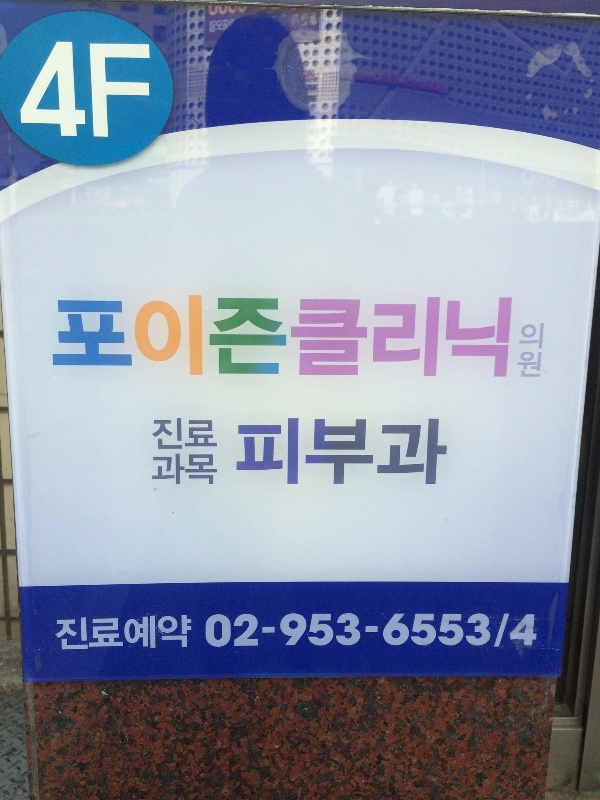text: (65, 32, 80, 147), (81, 32, 96, 147), (97, 32, 112, 147), (113, 32, 128, 147), (129, 32, 144, 147), (289, 294, 304, 389), (305, 294, 320, 389), (321, 294, 336, 389), (337, 294, 352, 389), (353, 294, 368, 389), (369, 294, 384, 389), (385, 294, 400, 389), (401, 294, 416, 389), (417, 294, 432, 389), (433, 294, 448, 389), (449, 294, 464, 389), (465, 294, 480, 389), (481, 294, 496, 389), (497, 294, 512, 389), (52, 32, 64, 147), (65, 294, 80, 383), (81, 294, 96, 383), (97, 294, 112, 383), (113, 294, 128, 383), (129, 294, 144, 383), (145, 294, 160, 383), (161, 294, 176, 383), (177, 294, 192, 383), (193, 294, 208, 383), (209, 294, 224, 383), (225, 294, 240, 383), (241, 294, 256, 383), (257, 294, 272, 383), (273, 294, 288, 383), (241, 413, 256, 493), (257, 413, 272, 493), (273, 413, 288, 493), (289, 413, 304, 493), (305, 413, 320, 493), (321, 413, 336, 493), (337, 413, 352, 493), (353, 413, 368, 493), (369, 413, 384, 493), (385, 413, 400, 493), (401, 413, 416, 493), (417, 413, 432, 493), (433, 413, 448, 493), (145, 32, 154, 147), (53, 294, 64, 383), (529, 322, 544, 378), (209, 609, 224, 659), (225, 609, 240, 659), (241, 609, 256, 659), (257, 609, 272, 659), (273, 609, 288, 659), (289, 609, 304, 659), (305, 609, 320, 659), (321, 609, 336, 659), (337, 609, 352, 659), (353, 609, 368, 659), (369, 609, 384, 659), (385, 609, 400, 659), (401, 609, 416, 659), (417, 609, 432, 659), (433, 609, 448, 659), (449, 609, 464, 659), (465, 609, 480, 659), (481, 609, 496, 659), (497, 609, 512, 659), (513, 609, 528, 659), (529, 609, 542, 659), (177, 613, 193, 653), (65, 613, 80, 653), (81, 613, 96, 653), (97, 613, 112, 653), (113, 613, 128, 653), (129, 613, 144, 653), (145, 613, 160, 653), (161, 613, 176, 653), (161, 453, 176, 489), (177, 453, 192, 489), (193, 453, 208, 489), (161, 417, 176, 452), (177, 417, 192, 452), (193, 417, 208, 452), (353, 66, 368, 100), (369, 66, 384, 100), (385, 66, 400, 100), (401, 66, 416, 100), (417, 66, 432, 100), (433, 66, 448, 100), (520, 322, 528, 378), (54, 613, 64, 653), (209, 453, 220, 489), (341, 66, 352, 100), (236, 413, 240, 493), (151, 417, 160, 452), (209, 417, 218, 452), (202, 609, 208, 659), (152, 453, 160, 489), (305, 67, 318, 85), (209, 19, 224, 34), (291, 13, 304, 29), (305, 13, 318, 29), (209, 4, 224, 17), (225, 4, 240, 17), (513, 294, 515, 389), (449, 413, 451, 493), (273, 7, 288, 15), (241, 4, 249, 17), (260, 7, 272, 15), (225, 19, 230, 34), (449, 66, 451, 100), (545, 322, 546, 378), (303, 67, 304, 85), (207, 19, 208, 34), (289, 7, 290, 15)
